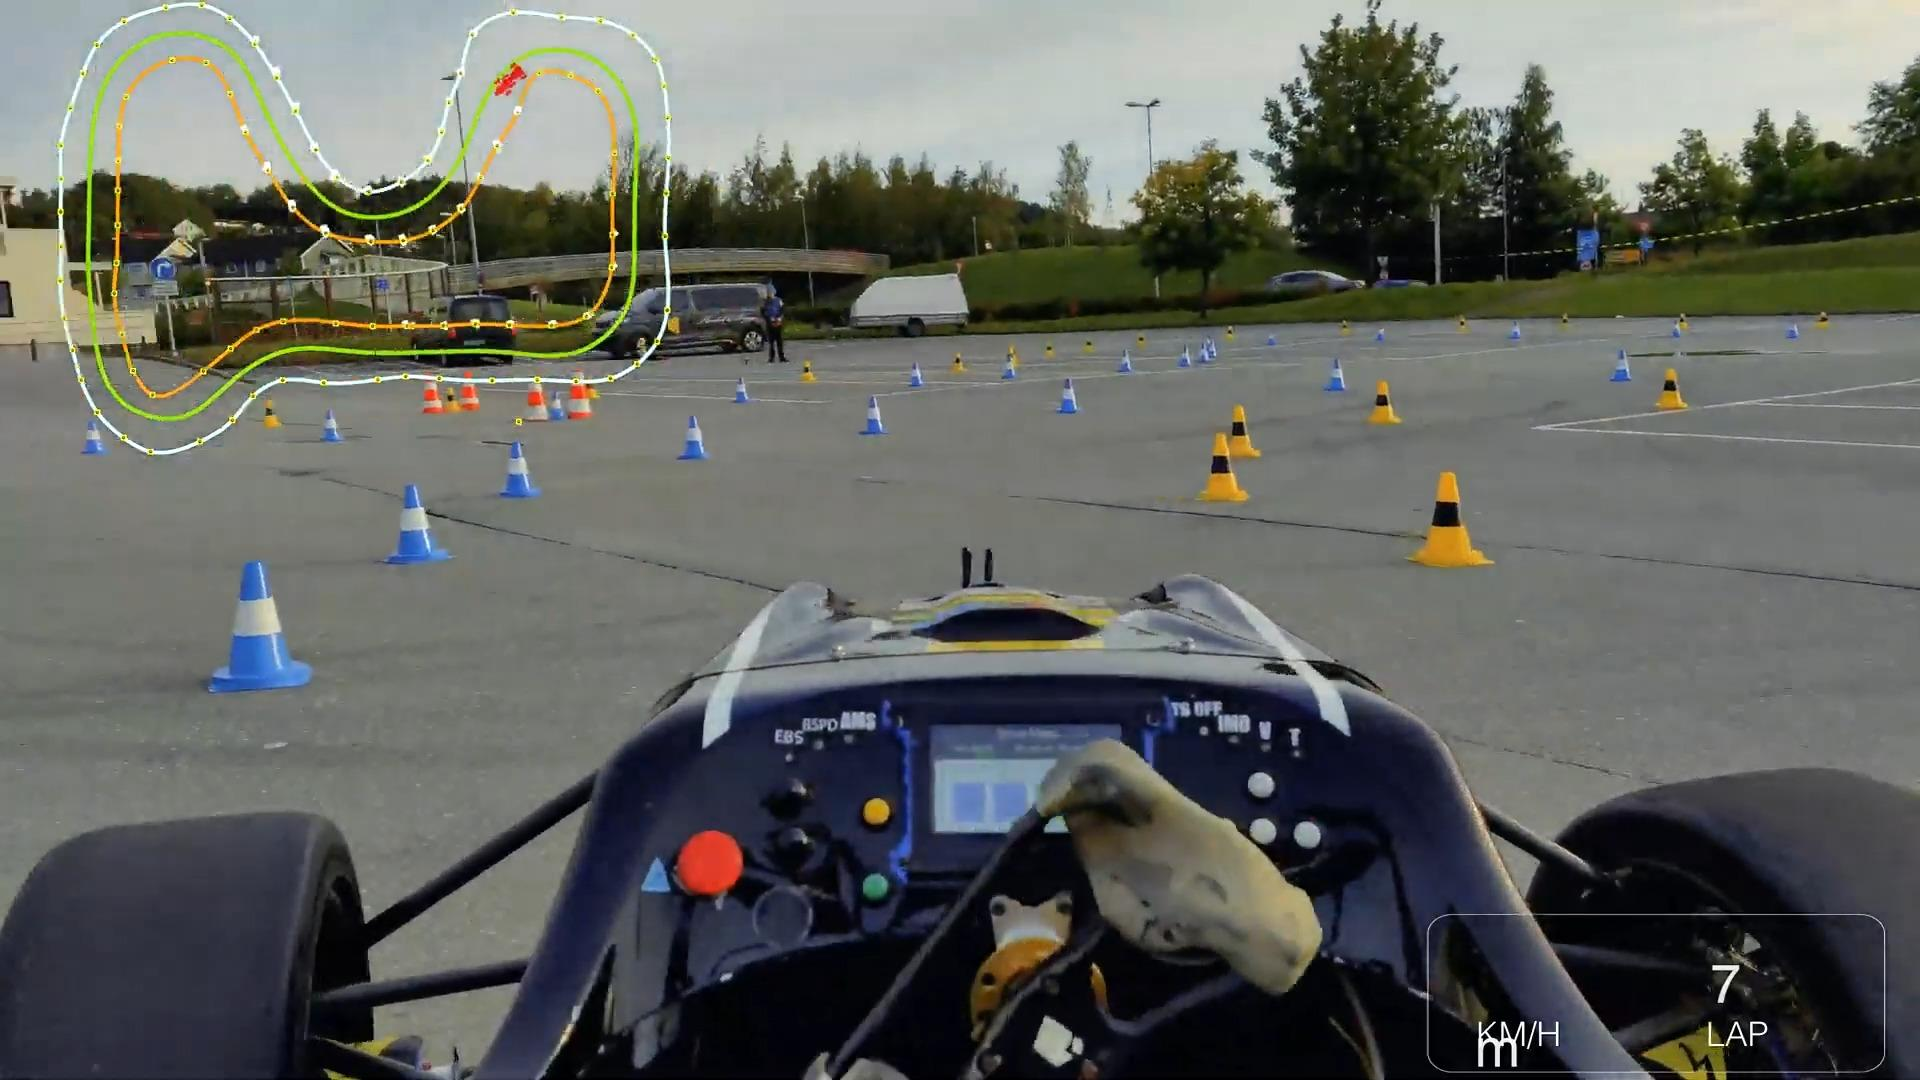blue_cone: (209, 561, 312, 692), (385, 483, 449, 562), (495, 441, 541, 498), (857, 394, 897, 438), (674, 412, 711, 458), (314, 404, 349, 445), (81, 419, 108, 461), (1056, 377, 1079, 415), (1613, 346, 1633, 383), (1324, 359, 1347, 390), (546, 390, 569, 419), (730, 376, 754, 402), (1002, 355, 1020, 381), (1117, 350, 1133, 377), (1509, 318, 1525, 340), (1784, 322, 1800, 343), (909, 364, 922, 388), (1178, 345, 1191, 369), (1375, 325, 1386, 344), (1200, 343, 1211, 361), (1671, 321, 1683, 337), (1267, 332, 1277, 349)
large_orange_cone: (565, 369, 592, 421), (522, 379, 550, 422), (419, 371, 444, 411), (459, 373, 486, 410)
yellow_cone: (1415, 472, 1483, 570), (1202, 433, 1248, 504), (1220, 401, 1264, 458), (1369, 380, 1405, 429), (1655, 368, 1686, 408), (795, 358, 819, 385), (582, 374, 605, 400), (262, 398, 281, 427), (950, 350, 968, 375), (443, 386, 459, 411), (1817, 310, 1832, 332), (1080, 337, 1096, 354), (1136, 331, 1150, 349), (1043, 340, 1056, 358), (1339, 319, 1351, 338), (1224, 325, 1236, 343)
